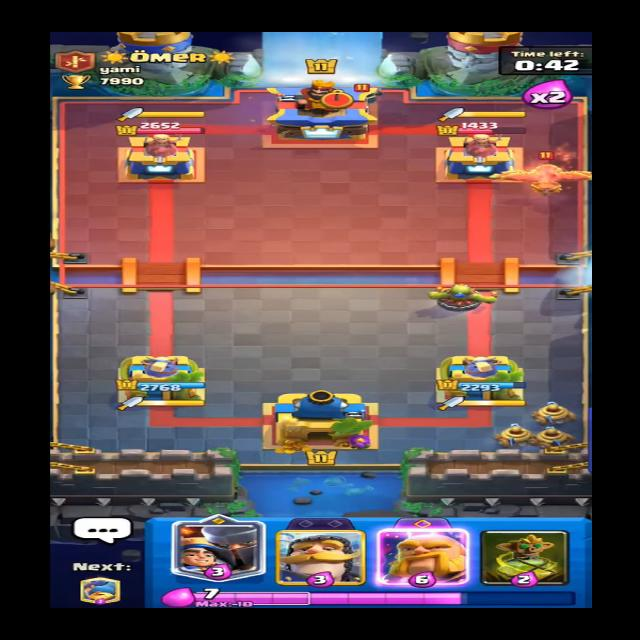mini-pekka: (349, 82, 392, 104)
phoenix: (492, 148, 590, 199)
